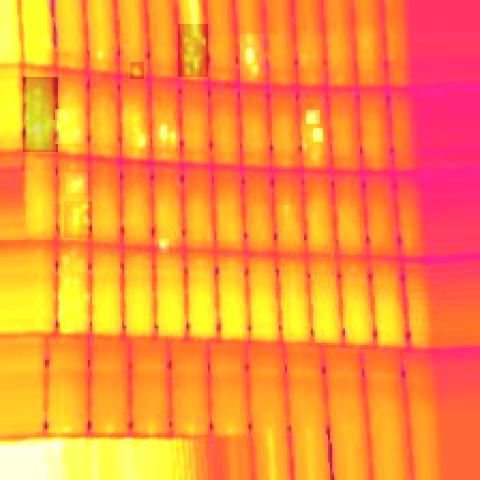fault: (58, 249, 90, 334), (23, 77, 58, 152), (178, 24, 208, 77), (240, 34, 268, 77), (64, 201, 92, 238), (56, 109, 84, 144), (156, 118, 178, 146), (66, 173, 88, 193), (130, 62, 144, 79), (306, 110, 320, 124), (159, 238, 169, 253), (313, 128, 323, 142), (137, 133, 146, 148)
